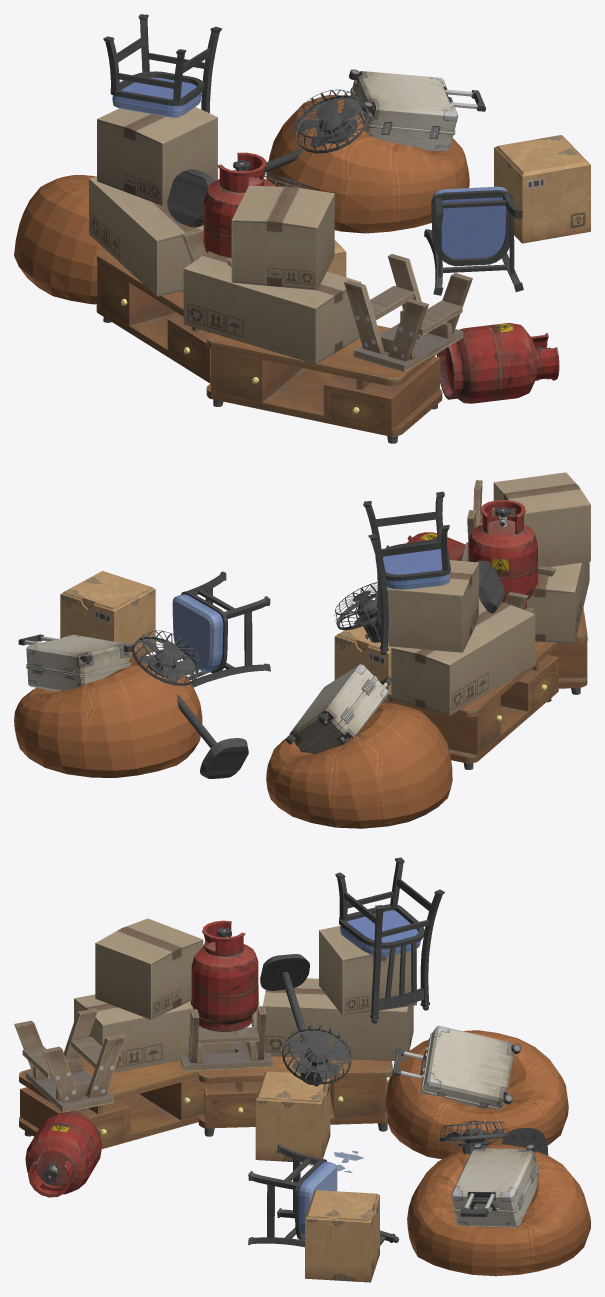
The model's file is zhangaiwu_Anim.obj.
The picture shows the model from 3 angles, top to bottom: view 1: azimuth 30°, elevation 25°; view 2: azimuth 150°, elevation 25°; view 3: azimuth 270°, elevation 25°; orthographic projection. The views are drawn at different scales.
Bounding box in the file's own units: 4.42 × 2.47 × 5.22.
Materials: 26 (26 with a texture image).
